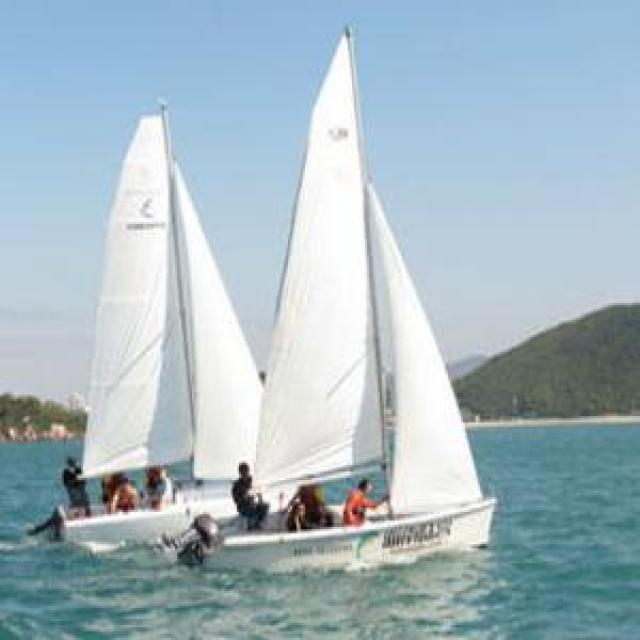sailboat: (209, 26, 499, 562), (57, 103, 307, 534)
